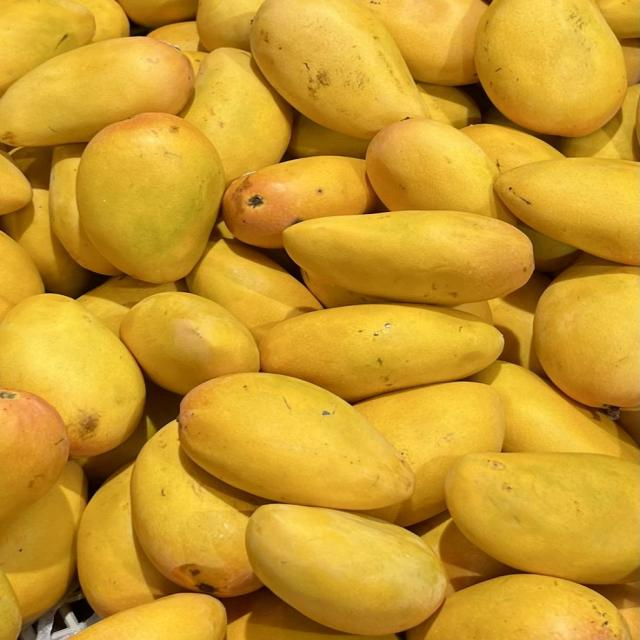mango: (178, 373, 413, 509), (247, 504, 446, 635), (446, 452, 639, 583), (77, 113, 224, 283), (250, 0, 428, 138), (260, 303, 503, 401), (283, 210, 533, 305), (0, 293, 145, 456), (131, 421, 264, 596), (354, 381, 505, 526), (0, 36, 193, 146), (474, 0, 626, 136), (468, 360, 639, 461), (533, 254, 639, 408), (77, 464, 183, 617), (366, 118, 515, 223), (180, 47, 292, 185), (494, 158, 639, 264), (407, 573, 632, 639), (221, 156, 383, 247), (120, 292, 259, 395), (187, 238, 322, 343), (0, 461, 86, 624), (0, 147, 92, 297), (75, 378, 181, 487), (357, 0, 486, 85), (0, 389, 69, 527), (49, 143, 121, 275), (0, 0, 96, 95), (224, 588, 398, 639), (410, 511, 513, 596), (77, 275, 186, 337), (76, 594, 226, 639), (488, 271, 551, 375), (557, 84, 639, 161), (460, 123, 563, 173), (0, 231, 44, 320), (287, 111, 369, 158), (517, 222, 582, 275), (301, 269, 390, 307), (196, 0, 262, 51), (417, 82, 481, 128), (591, 582, 639, 639), (76, 0, 130, 42), (119, 0, 197, 29), (0, 150, 33, 215), (147, 21, 204, 51), (596, 0, 639, 38), (0, 568, 22, 639), (620, 38, 639, 86), (617, 410, 639, 445)
